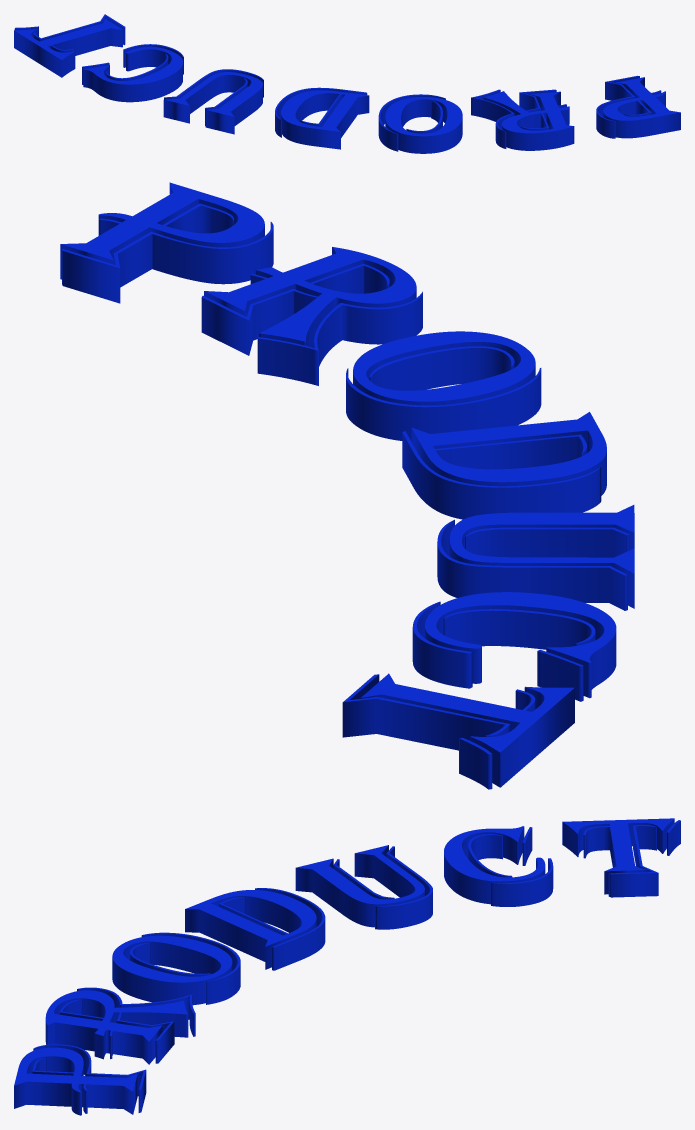
Rendered from product-sign.fbx.
3 views of the same model, one above another, from view 1: azimuth 30°, elevation 25°; view 2: azimuth 150°, elevation 25°; view 3: azimuth 270°, elevation 25° (orthographic). The views are drawn at different scales.
Parts seen in each view (by area): view 1: Text; view 2: Text; view 3: Text.
Boxes of the visible parts, x1,y1,x2,y2 form: Text: [14, 14, 680, 153]; Text: [60, 182, 634, 789]; Text: [14, 818, 680, 1115].
Bounding box in the file's own units: 304 × 12 × 313.
